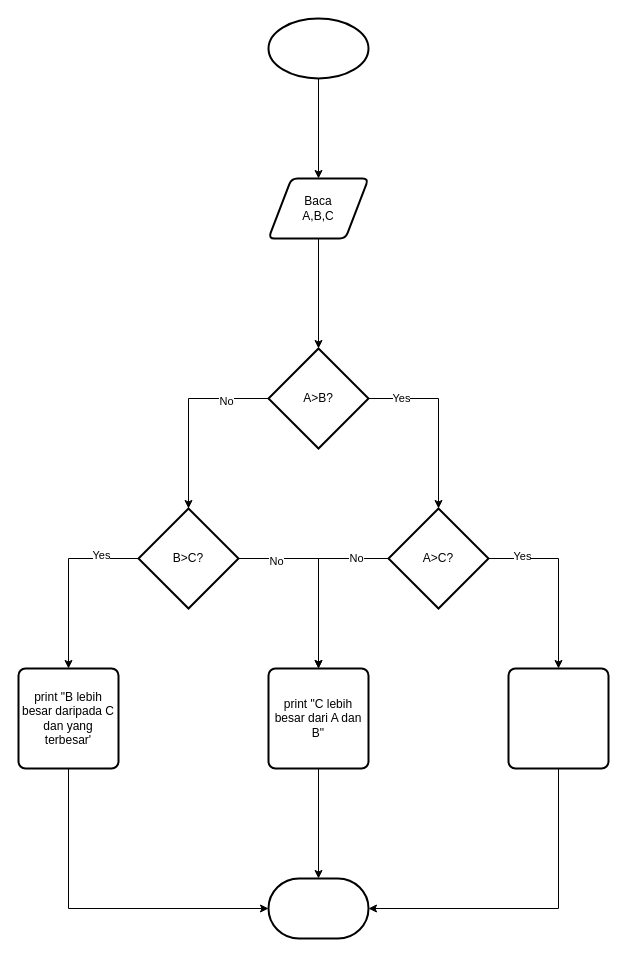
Some shapes in this 626 by 956 pixel diagram are drawn without their labels. Each missing label, with the centre of its shape:
print "A lebih besar daripada B dan C": (x=558, y=718)
Start: (x=318, y=48)
Stop: (x=318, y=908)
